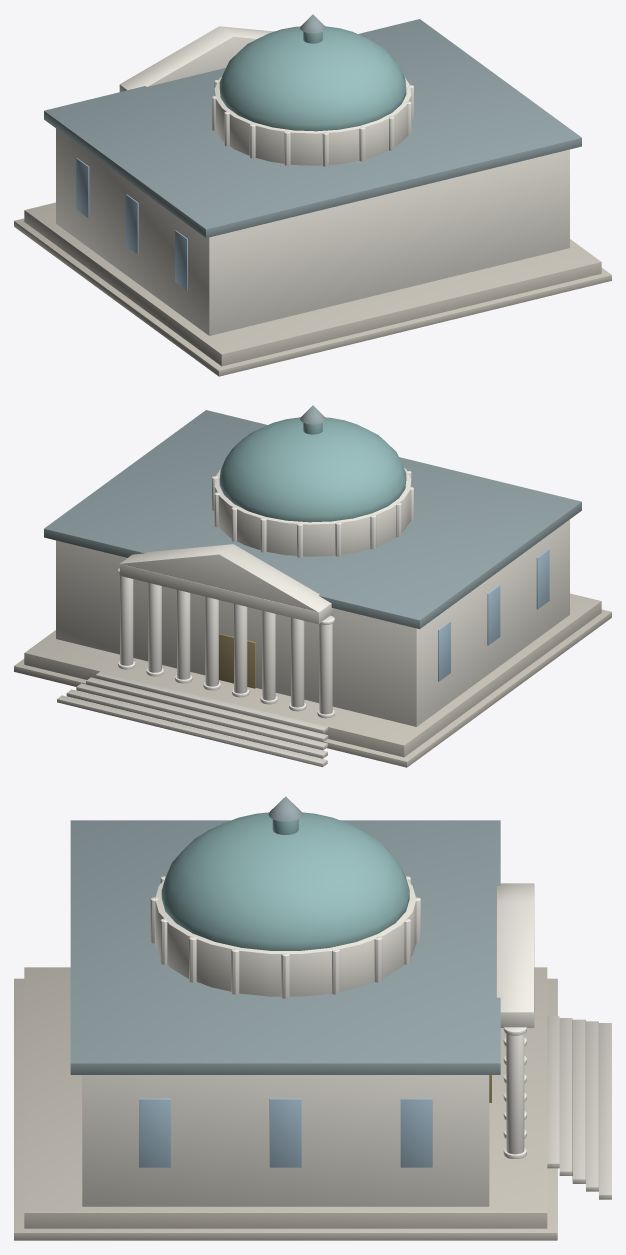
The model's file is th9_museum.glb.
The picture shows the model from 3 angles, top to bottom: view 1: azimuth 30°, elevation 25°; view 2: azimuth 150°, elevation 25°; view 3: azimuth 270°, elevation 25°; orthographic projection. The views are drawn at different scales.
Parts seen in each view (by area): view 1: Cube.007, Cube.008, Cube, Sphere, Cube.001, Cylinder.024, Giebel, Cube.013, Cube.015, Cube.011; view 2: Cube.008, Cube.007, Sphere, Cube, Giebel, Cylinder.024, Cube.001, Cube.009, Cube.006, Cube.005, Cube.004, Cube.003 (+13 smaller); view 3: Cube.008, Cube.007, Cube, Sphere, Cube.001, Cylinder.024, Giebel, Cube.004, Cube.014, Cube.016, Cube.006, Cylinder.021 (+4 smaller).
Boxes of the visible parts, x1,y1,x2,y2 form: Cube.007: (56, 128, 569, 335); Cube.008: (44, 19, 581, 237); Cube: (24, 202, 601, 366); Sphere: (219, 26, 406, 131); Cube.001: (14, 218, 611, 376); Cylinder.024: (214, 77, 411, 165); Giebel: (120, 26, 273, 89); Cube.013: (125, 194, 138, 254); Cube.015: (76, 158, 89, 218); Cube.011: (175, 230, 187, 290); Cube.008: (44, 410, 581, 628); Cube.007: (56, 519, 569, 726); Sphere: (219, 417, 406, 522); Cube: (24, 593, 601, 757); Giebel: (120, 544, 330, 612); Cylinder.024: (214, 468, 411, 556); Cube.001: (14, 609, 611, 767); Cube.009: (119, 564, 332, 624); Cube.006: (57, 695, 327, 767); Cube.005: (66, 689, 327, 758); Cube.004: (76, 683, 327, 750); Cube.003: (86, 677, 328, 741); Cube.008: (70, 820, 500, 1074); Cube.007: (82, 1075, 489, 1206); Cube: (24, 967, 547, 1228); Sphere: (161, 812, 409, 950); Cube.001: (14, 978, 557, 1240); Cylinder.024: (155, 880, 415, 996); Giebel: (496, 883, 534, 1011); Cube.004: (572, 1019, 585, 1183); Cube.014: (269, 1098, 301, 1167); Cube.016: (400, 1098, 432, 1167); Cube.006: (599, 1023, 611, 1199); Cylinder.021: (506, 1034, 524, 1154).
Size of the model in its own units: 41.4 by 24.1 by 41.15.
